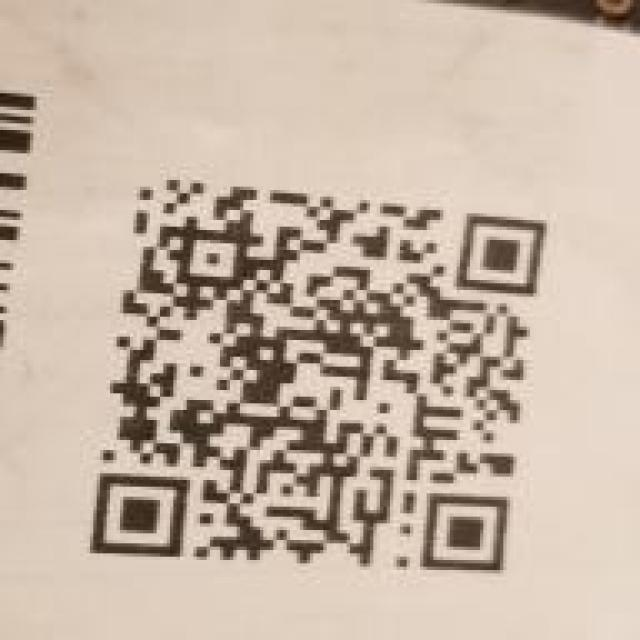QR_CODE: (70, 158, 568, 587)
